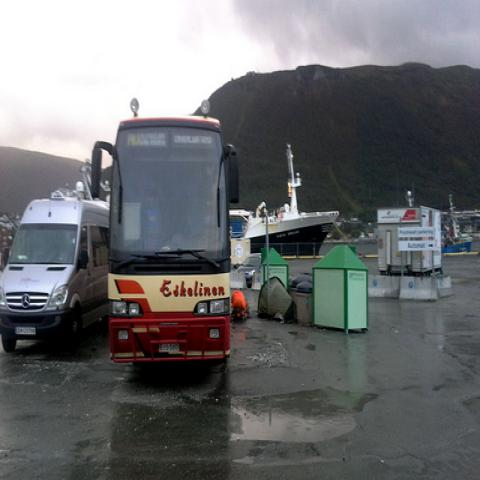bus: (90, 96, 243, 364)
truck: (0, 198, 114, 350), (231, 240, 251, 268)
